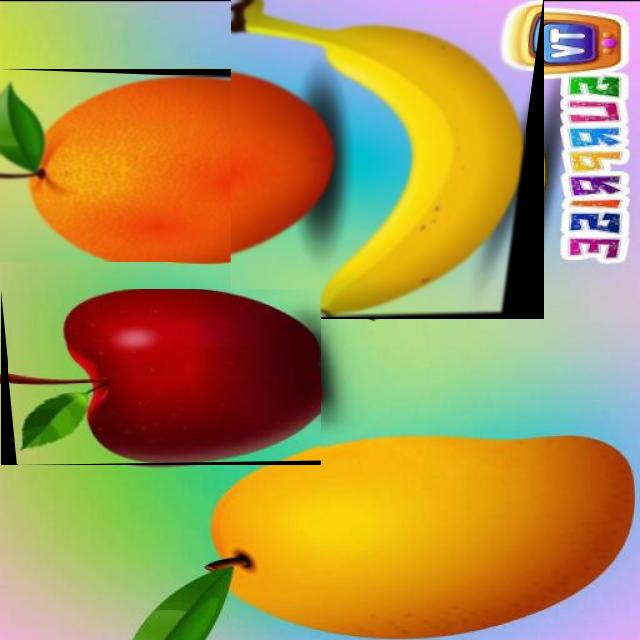Apple: (9, 289, 320, 464)
Banana: (231, 0, 526, 317)
Orange: (0, 76, 342, 262)
